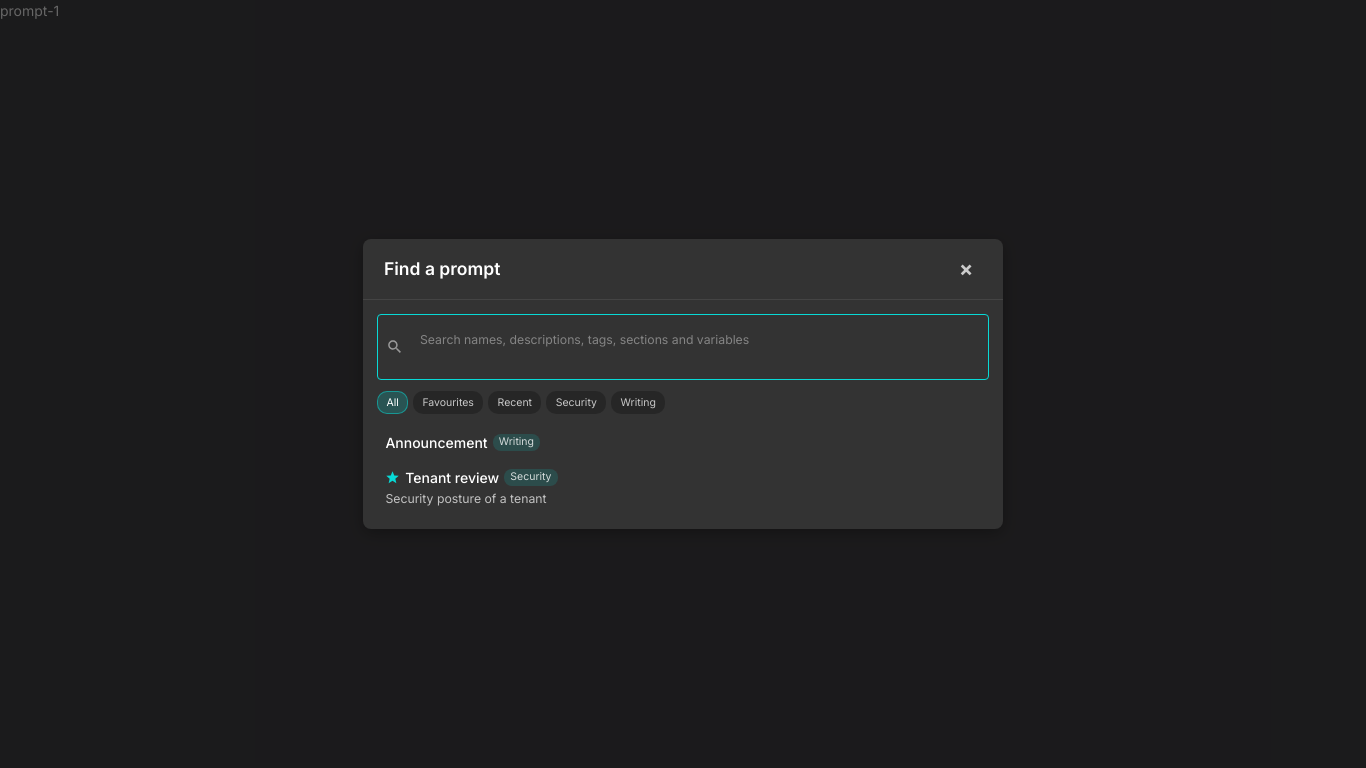
it: finding a prompt › switches to the prompt that was chosen
This screenshot has width=1366, height=768.
Type "tenant" into the field named "Search prompts" at point(695, 340), box [410, 320, 980, 360]
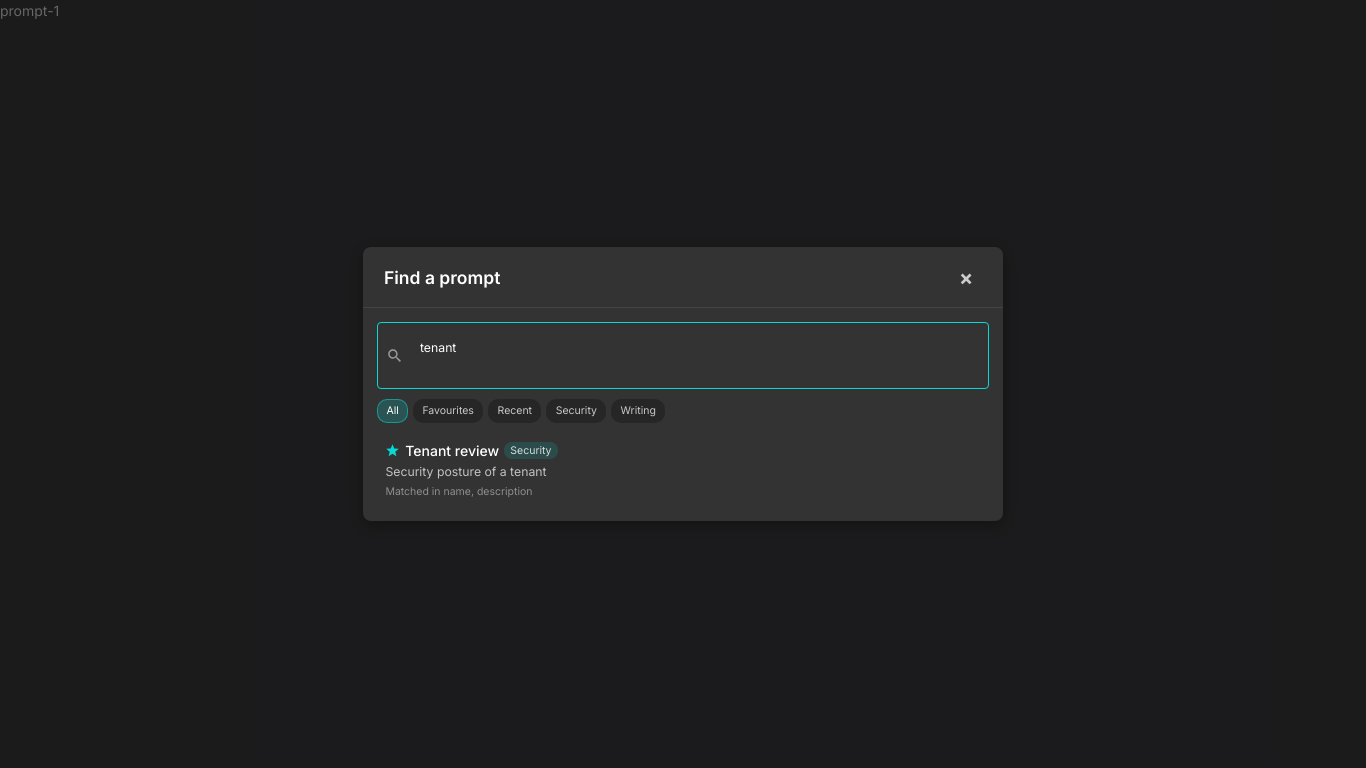
Click the text "Tenant review" at point(452, 451), box [405, 440, 499, 461]
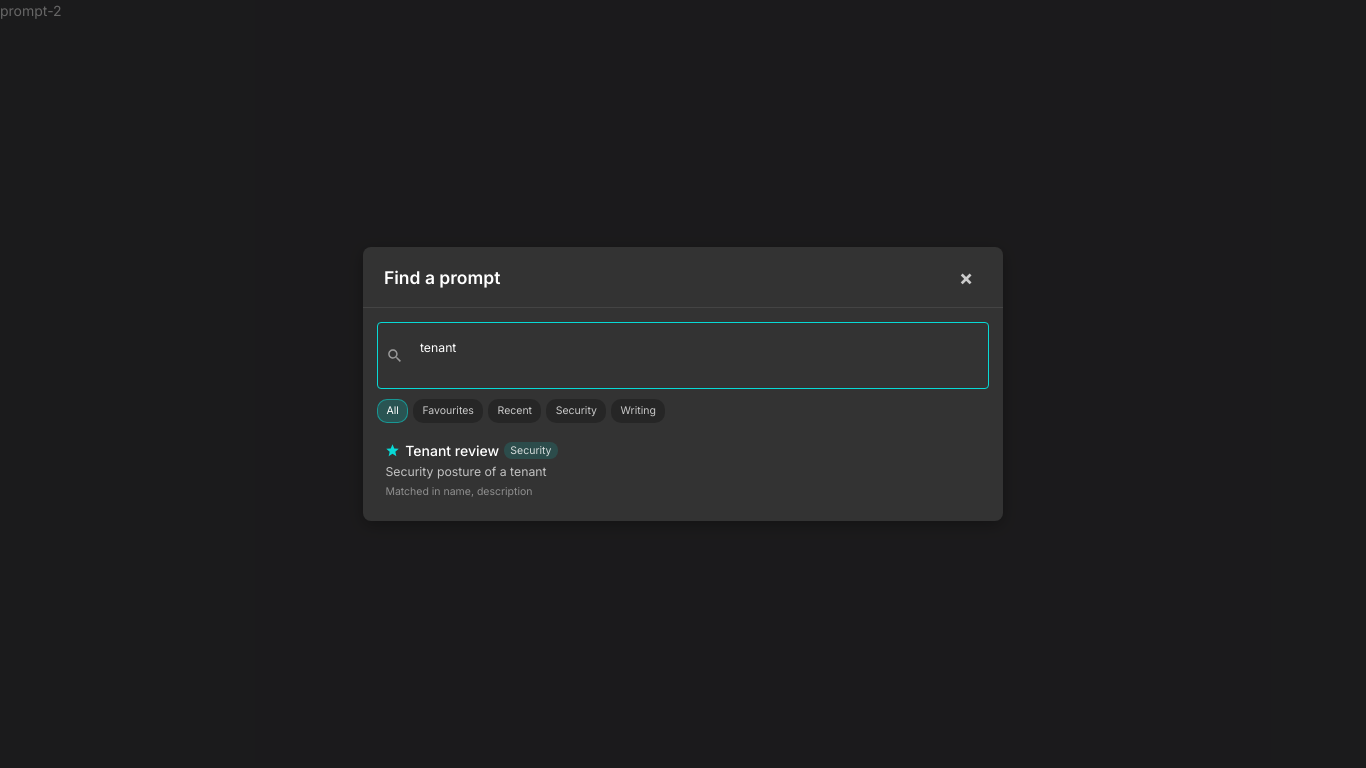
expect the text with test id "active" reads "prompt-2": met, box [0, 2, 62, 19]
